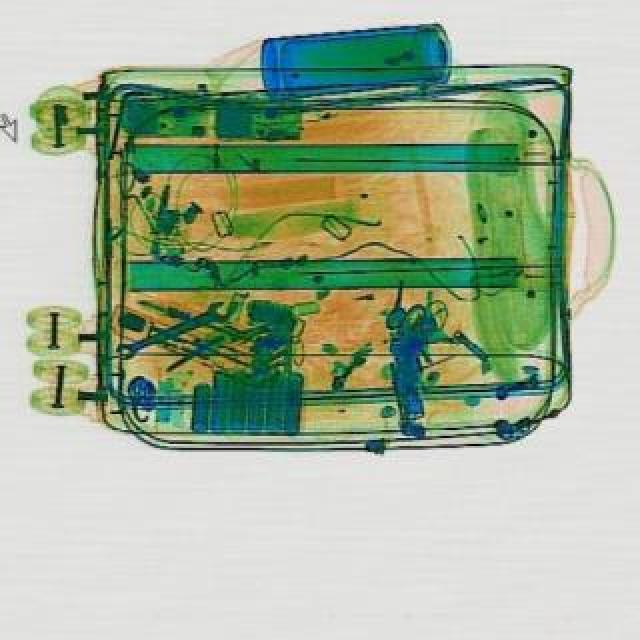scissors: (116, 302, 236, 368)
